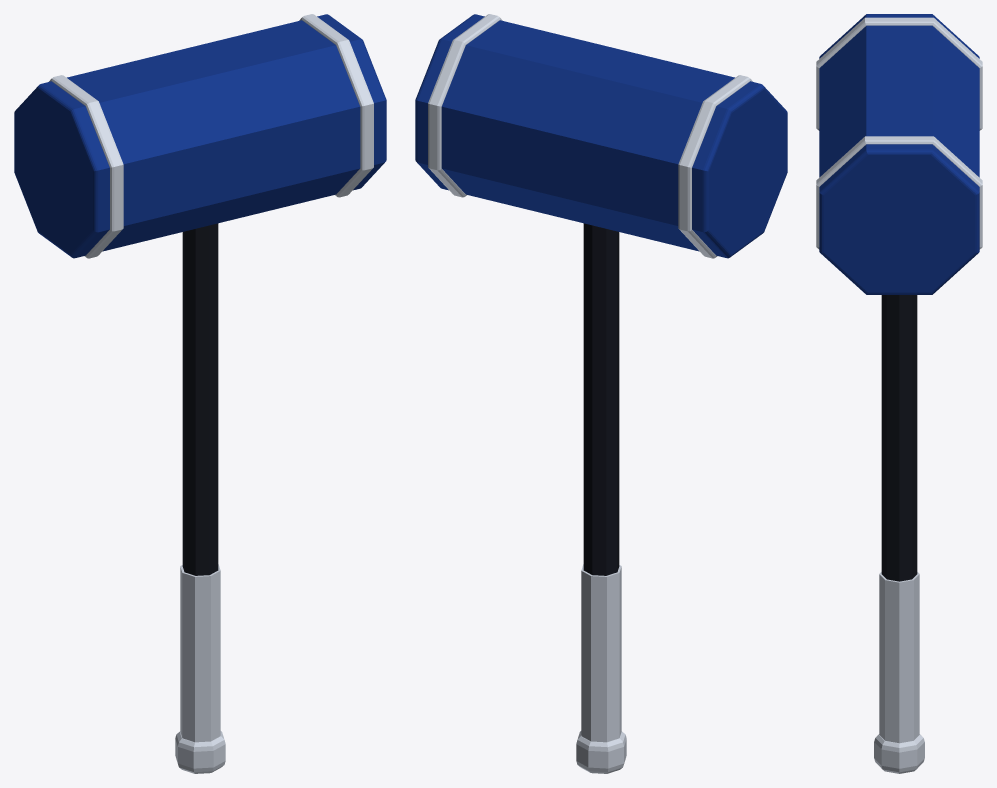
Rendered from hammer_aodaru.fbx.
The picture shows the model from 3 angles, left to right: view 1: azimuth 30°, elevation 25°; view 2: azimuth 150°, elevation 25°; view 3: azimuth 270°, elevation 25°; orthographic projection. The views are drawn at different scales.
Visible parts, largest first — view 1: aodaru_hammer; view 2: aodaru_hammer; view 3: aodaru_hammer.
Boxes of the visible parts, left/top/right/bottom form: aodaru_hammer: left=14, top=14, right=386, bottom=773; aodaru_hammer: left=415, top=14, right=787, bottom=773; aodaru_hammer: left=816, top=14, right=982, bottom=773.
Bounding box in the file's own units: 1.1 × 2.54 × 0.558.
